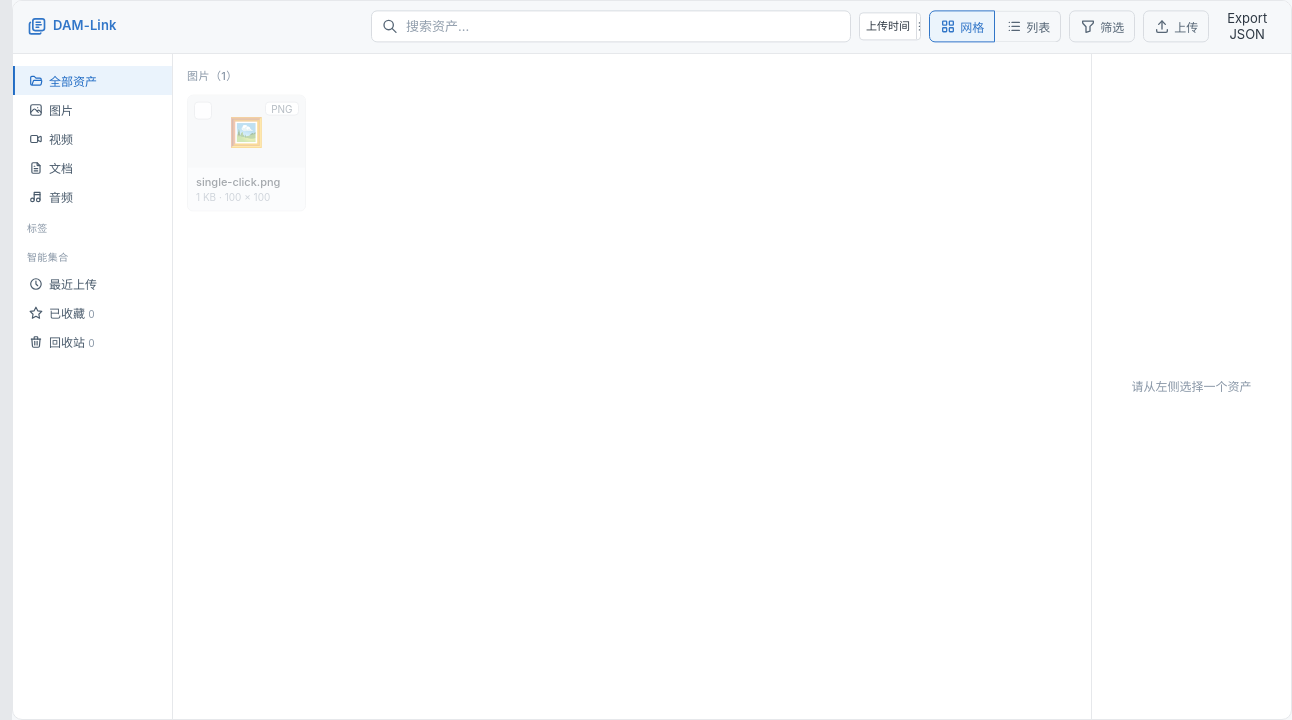
Test: App — BatchActionBar handlers › clicking a card does NOT open the Lightbox; it only selects the asset
expect the text "single-click.png" is shown: met, box [196,174,280,188]
Click the button "🖼️ PNG single-click.png 1 KB · 100 × 100" at (246, 153), box [187,94,306,212]
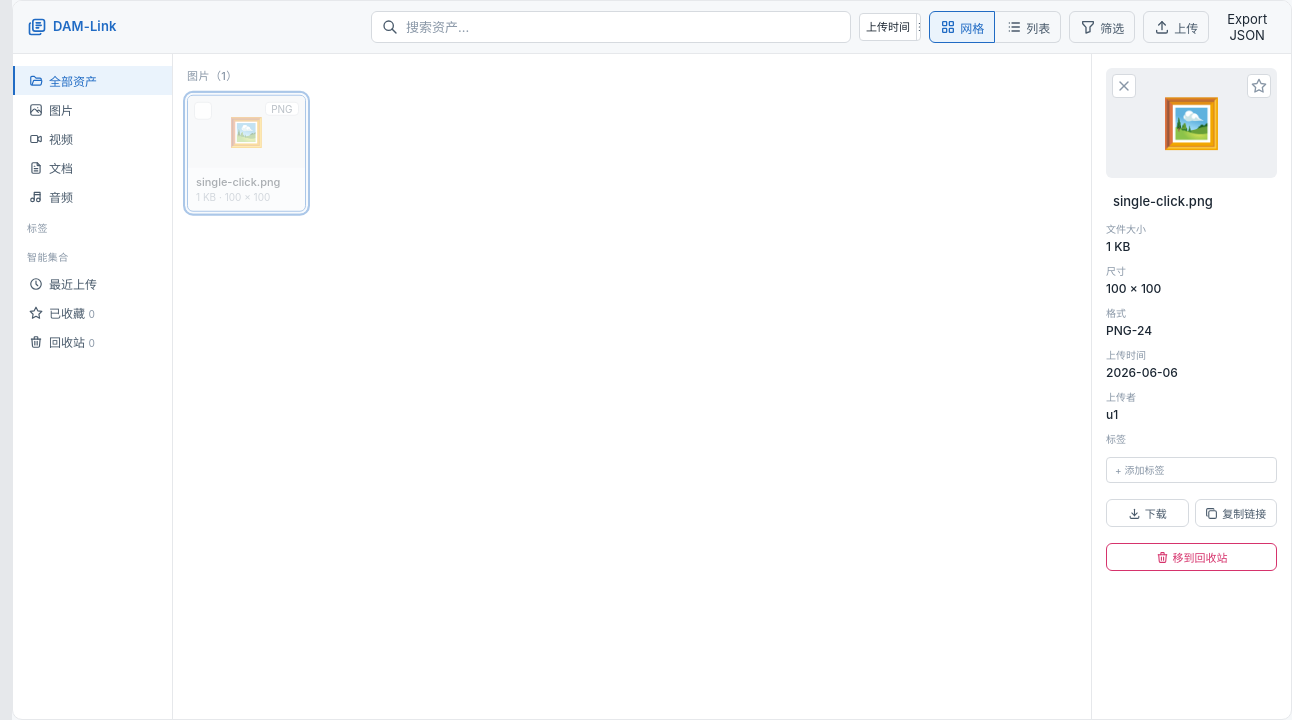
expect the button titled "点击重命名" reads "single-click.png": met, box [1106,190,1277,212]
